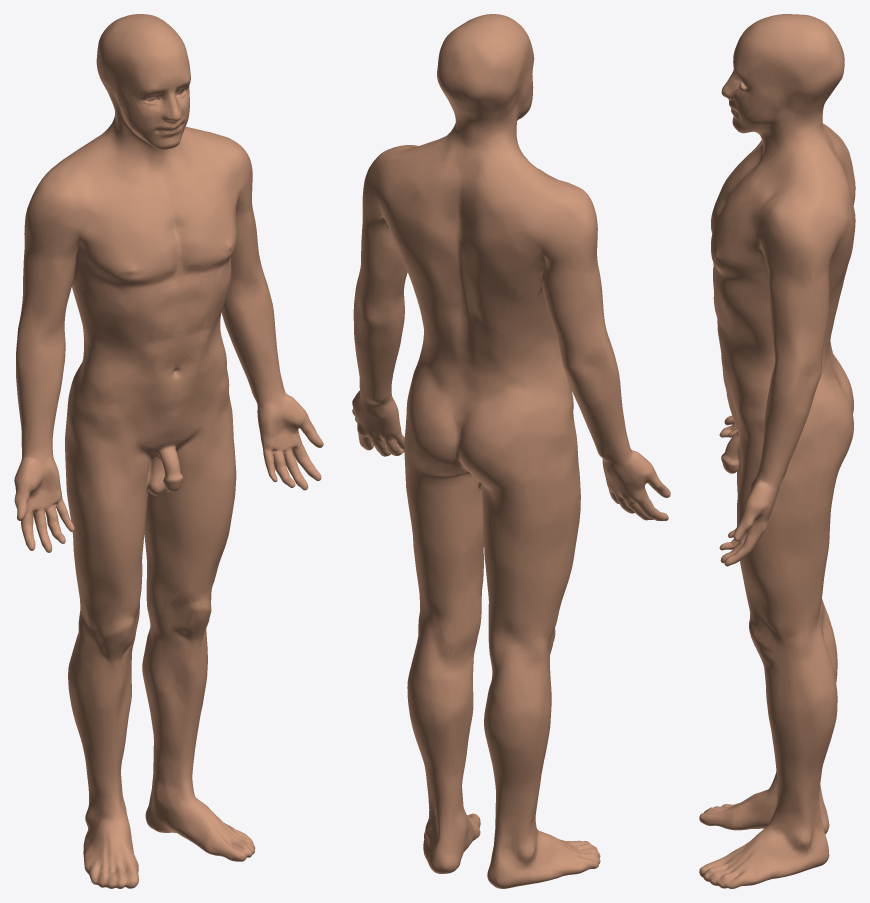
Rendered from integumentary.glb.
3 renders of one model, left to right at view 1: azimuth 30°, elevation 25°; view 2: azimuth 150°, elevation 25°; view 3: azimuth 270°, elevation 25°, orthographic. The views are drawn at different scales.
Visible parts, largest first — view 1: skin; view 2: skin; view 3: skin.
Part boxes in pixels (x1,y1,x2,y2): skin: [14, 14, 323, 888]; skin: [352, 14, 670, 888]; skin: [699, 14, 855, 888].
Size of the model in its own units: 1.33 by 3.44 by 0.584.
